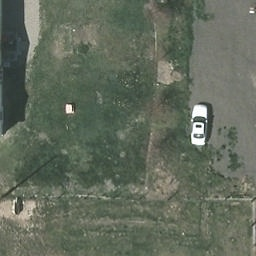car: (188, 105, 206, 146)
